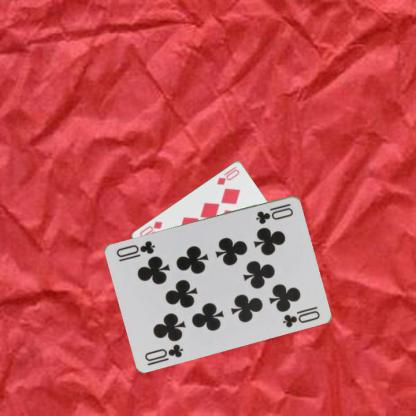10c: (253, 200, 295, 225), (142, 341, 185, 362)
10d: (214, 164, 240, 186)
